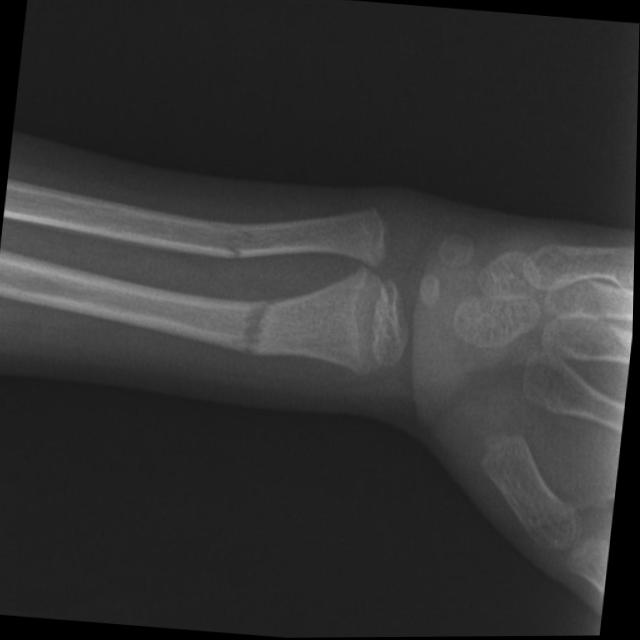fracture: (240, 293, 281, 357), (225, 220, 256, 259)
